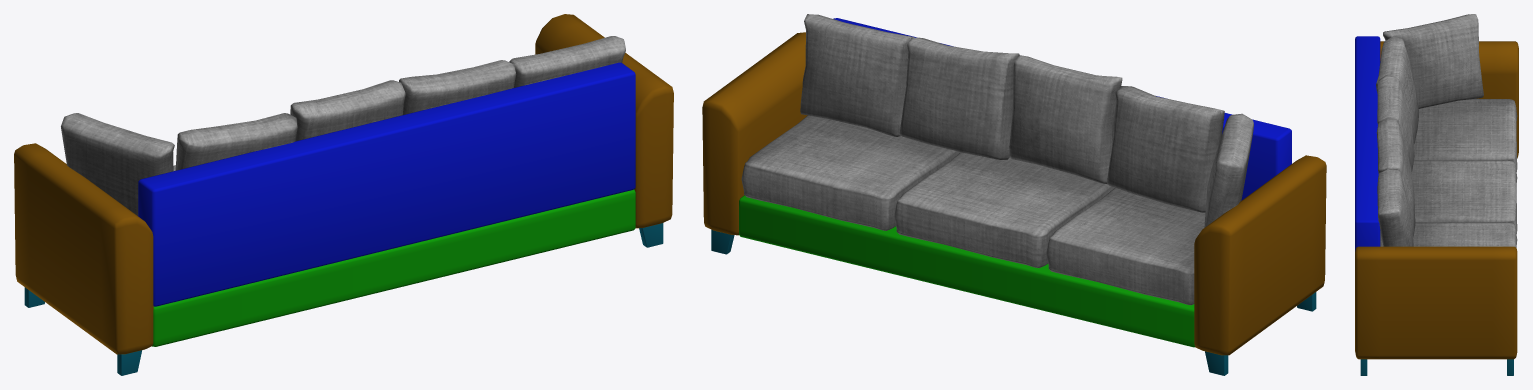
The model's file is Sofa 3.FBX.
The picture shows the model from 3 angles, left to right: view 1: azimuth 30°, elevation 25°; view 2: azimuth 150°, elevation 25°; view 3: azimuth 270°, elevation 25°; orthographic projection. The views are drawn at different scales.
Parts seen in each view (by area): view 1: Sofa 3; view 2: Sofa 3; view 3: Sofa 3.
Boxes of the visible parts, <box> form: Sofa 3: <box>14,14,673,375</box>; Sofa 3: <box>702,14,1326,375</box>; Sofa 3: <box>1355,14,1518,375</box>.
Bounding box in the file's own units: 3.41 × 1.1 × 1.23.
